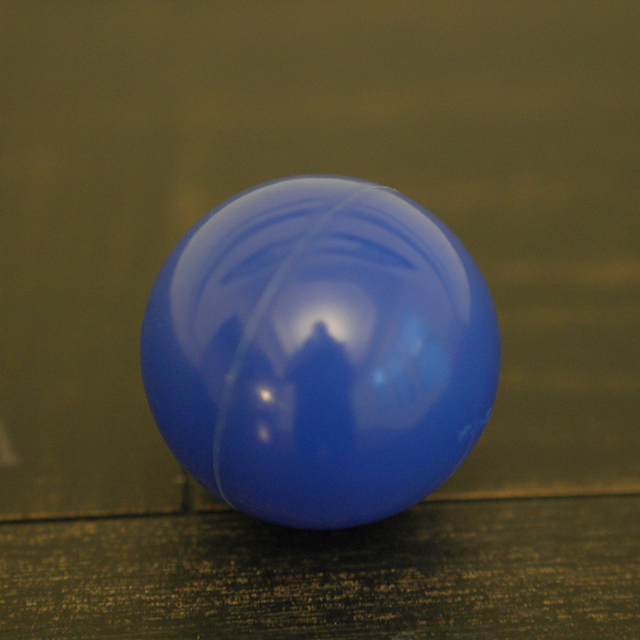Ball: (141, 176, 501, 530)
